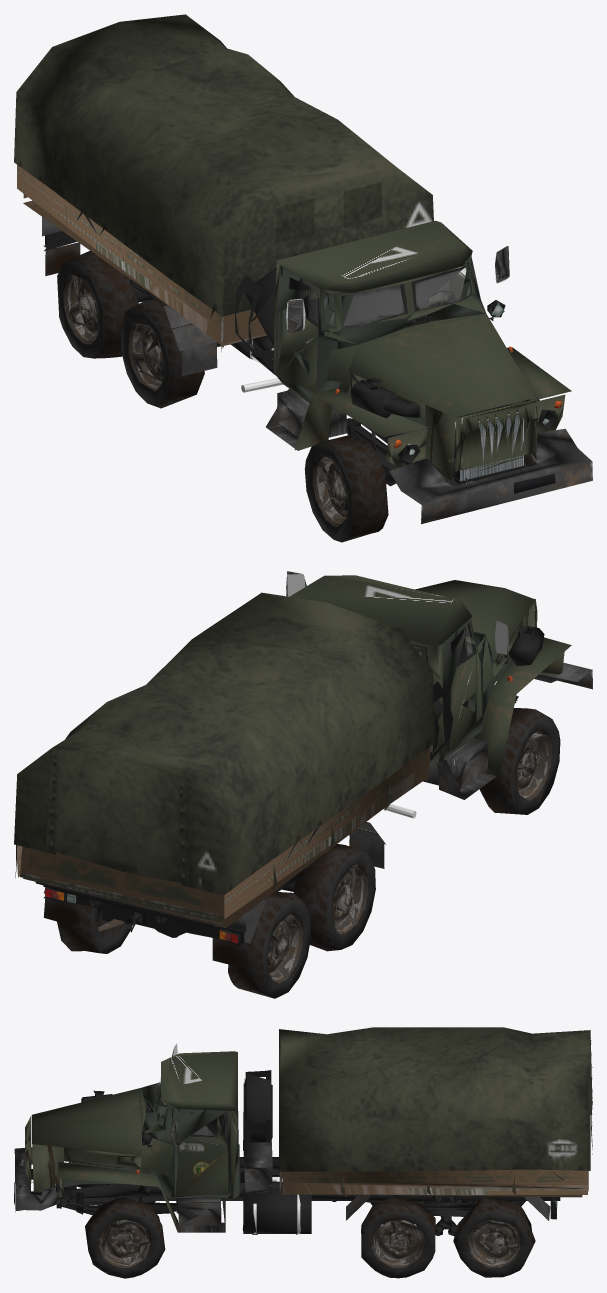
File: ural_truck_game.gltf
3 renders of one model, top to bottom at view 1: azimuth 30°, elevation 25°; view 2: azimuth 150°, elevation 25°; view 3: azimuth 270°, elevation 25°, orthographic. The views are drawn at different scales.
Visible parts, largest first — view 1: ural_truck; view 2: ural_truck; view 3: ural_truck.
Part boxes in pixels (box(x1,y1,x2,y2)): ural_truck: box(14, 14, 592, 542); ural_truck: box(14, 571, 592, 998); ural_truck: box(14, 1027, 592, 1278).
Size of the model in its own units: 2.6 by 2.97 by 7.89.
17 materials, 10 textured.
